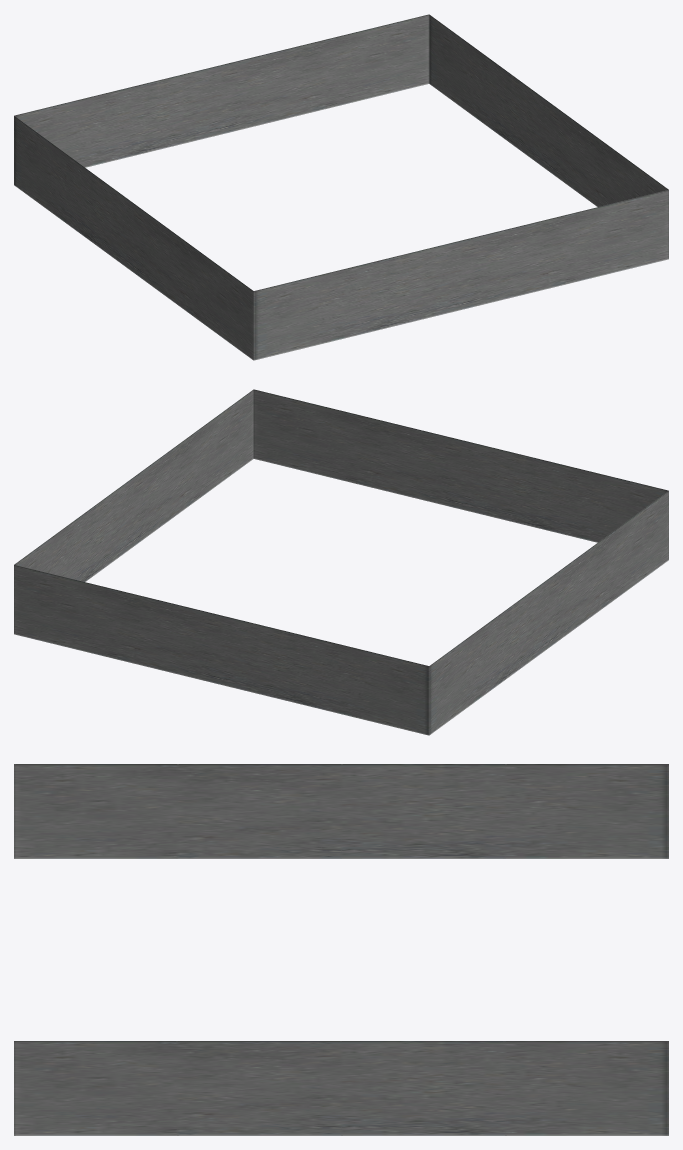
The picture shows the model from 3 angles, top to bottom: view 1: azimuth 30°, elevation 25°; view 2: azimuth 150°, elevation 25°; view 3: azimuth 270°, elevation 25°; orthographic projection. The views are drawn at different scales.
Parts seen in each view (by area): view 1: Joint_0_Object_0, Joint_0_Object_1; view 2: Joint_0_Object_0, Joint_0_Object_1; view 3: Joint_0_Object_1.
Boxes of the visible parts, x1=… form: Joint_0_Object_0: x1=14, y1=14, x2=668, y2=360; Joint_0_Object_1: x1=14, y1=14, x2=668, y2=360; Joint_0_Object_0: x1=14, y1=389, x2=668, y2=735; Joint_0_Object_1: x1=14, y1=389, x2=668, y2=735; Joint_0_Object_1: x1=14, y1=764, x2=668, y2=1135.
Bounding box in the file's own units: 10000 × 1600 × 10000.
